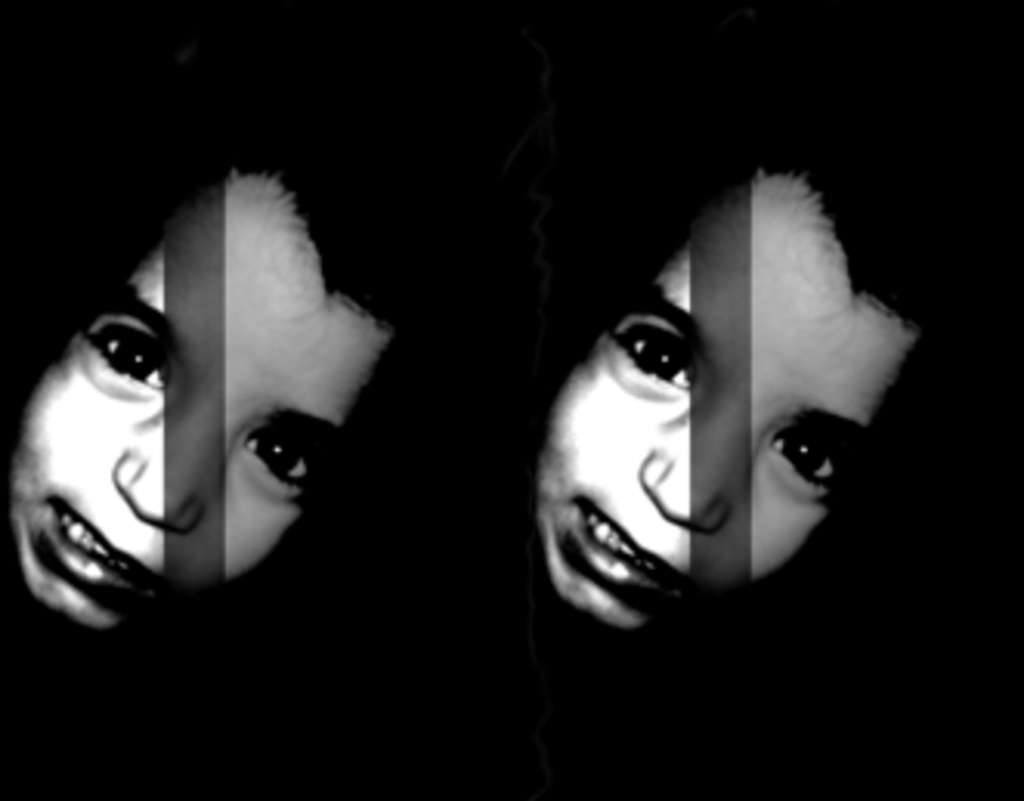Person: (533, 162, 924, 630), (8, 165, 393, 633)
